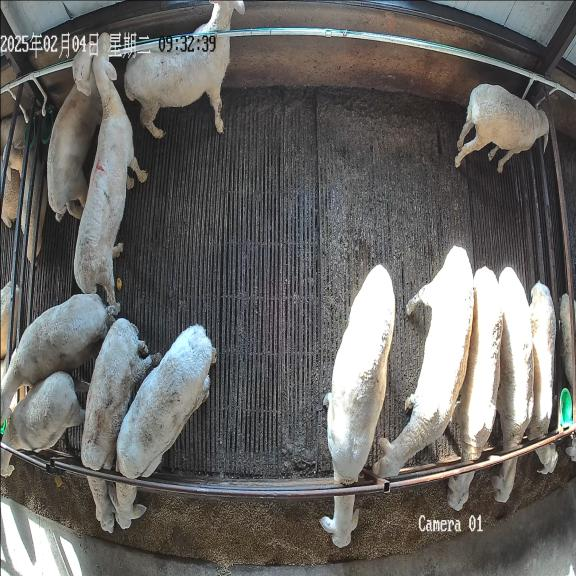drinking: (455, 84, 549, 173)
eating: (320, 265, 395, 548), (114, 325, 216, 529), (81, 318, 161, 532), (447, 266, 503, 510), (490, 267, 534, 502)
stand: (373, 246, 474, 477), (74, 33, 146, 315), (124, 0, 244, 138), (2, 294, 115, 419), (47, 38, 102, 221), (0, 371, 85, 477)
